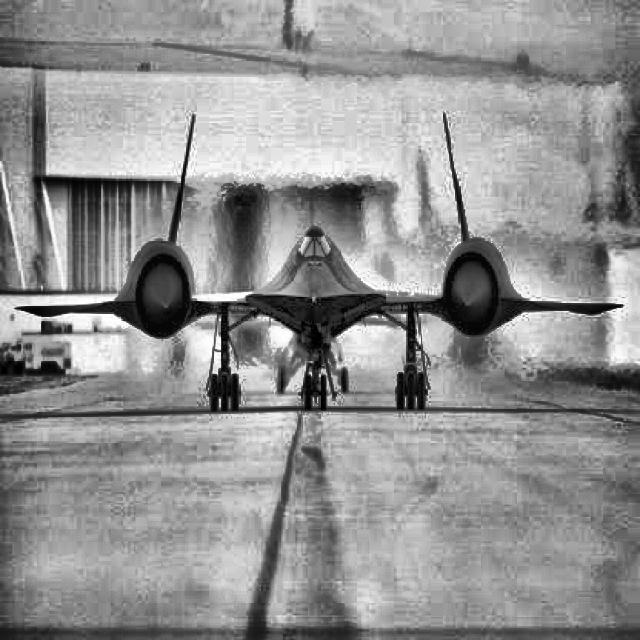SR71: (13, 110, 624, 412)
